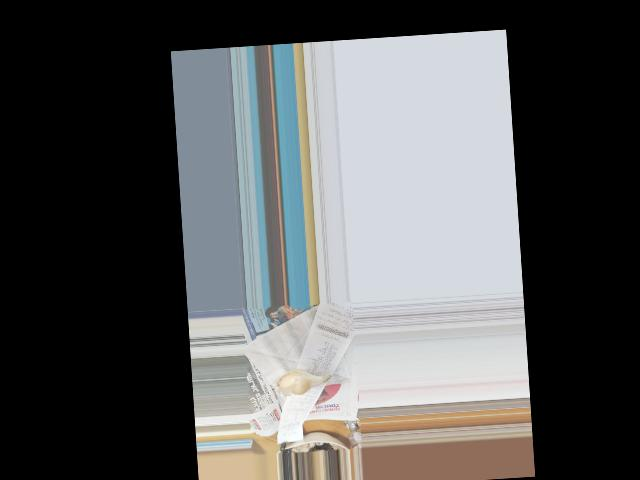onion: (277, 366, 321, 397)
